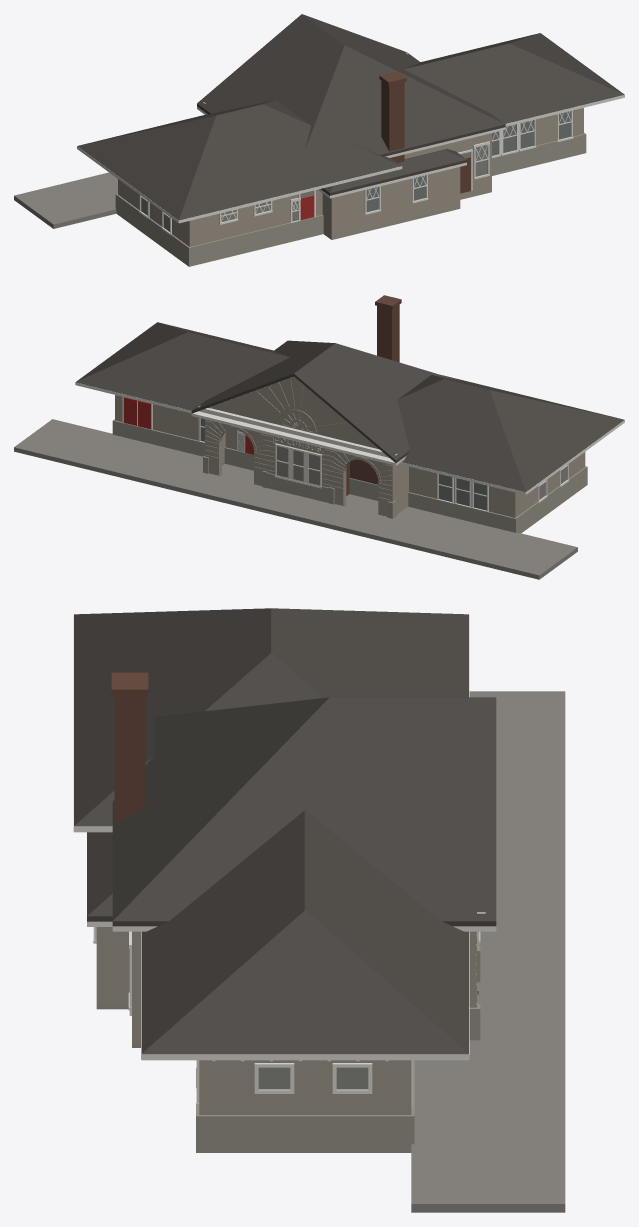
File: Columbus_Depot.glb
3 views of the same model, one above another, from view 1: azimuth 30°, elevation 25°; view 2: azimuth 150°, elevation 25°; view 3: azimuth 270°, elevation 25° (orthographic). The views are drawn at different scales.
Visible parts, largest first — view 1: roof, stucco, foundation, platform, trim, sash, glass, chimney; view 2: roof, platform, stucco, foundation, trim, glass, sash, chimney, doors, brick; view 3: roof, platform, stucco, foundation, chimney, trim, sash, glass.
Boxes of the visible parts, left/top/right/bottom form: roof: left=77, top=14, right=624, bottom=220; stucco: left=118, top=108, right=583, bottom=246; foundation: left=115, top=132, right=586, bottom=266; platform: left=14, top=172, right=117, bottom=228; trim: left=77, top=52, right=624, bottom=223; sash: left=139, top=110, right=573, bottom=235; glass: left=141, top=111, right=570, bottom=231; chimney: left=379, top=71, right=406, bottom=162; roof: left=76, top=322, right=624, bottom=491; platform: left=14, top=419, right=577, bottom=579; stucco: left=115, top=376, right=585, bottom=517; foundation: left=112, top=419, right=587, bottom=533; trim: left=75, top=382, right=624, bottom=494; glass: left=200, top=418, right=566, bottom=510; sash: left=198, top=418, right=569, bottom=511; chimney: left=375, top=295, right=401, bottom=362; doors: left=124, top=397, right=253, bottom=454; brick: left=346, top=459, right=378, bottom=495; roof: left=74, top=608, right=496, bottom=1054; platform: left=411, top=691, right=565, bottom=1212; stucco: left=96, top=927, right=476, bottom=1114; foundation: left=96, top=940, right=480, bottom=1152; chimney: left=111, top=672, right=148, bottom=824; trim: left=73, top=614, right=496, bottom=1107; sash: left=93, top=927, right=480, bottom=1104; glass: left=259, top=1068, right=367, bottom=1089.
Size of the model in its own units: 1.32 by 0.3279 by 0.5365.
